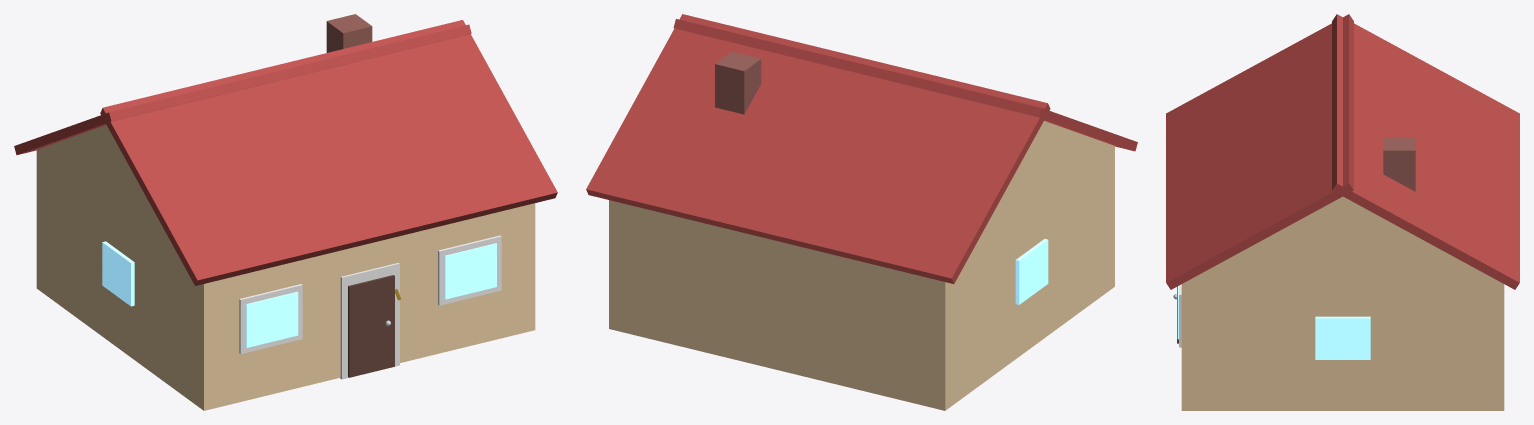
Rendered from house.glb.
3 renders of one model, left to right at view 1: azimuth 30°, elevation 25°; view 2: azimuth 150°, elevation 25°; view 3: azimuth 270°, elevation 25°, orthographic. The views are drawn at different scales.
Visible parts, largest first — view 1: House_body; view 2: House_body; view 3: House_body.
Boxes of the visible parts, <box> form: House_body: <box>14,14,557,410</box>; House_body: <box>586,14,1137,410</box>; House_body: <box>1166,14,1519,410</box>.
Size of the model in its own units: 8.7 by 5.64 by 7.68.
